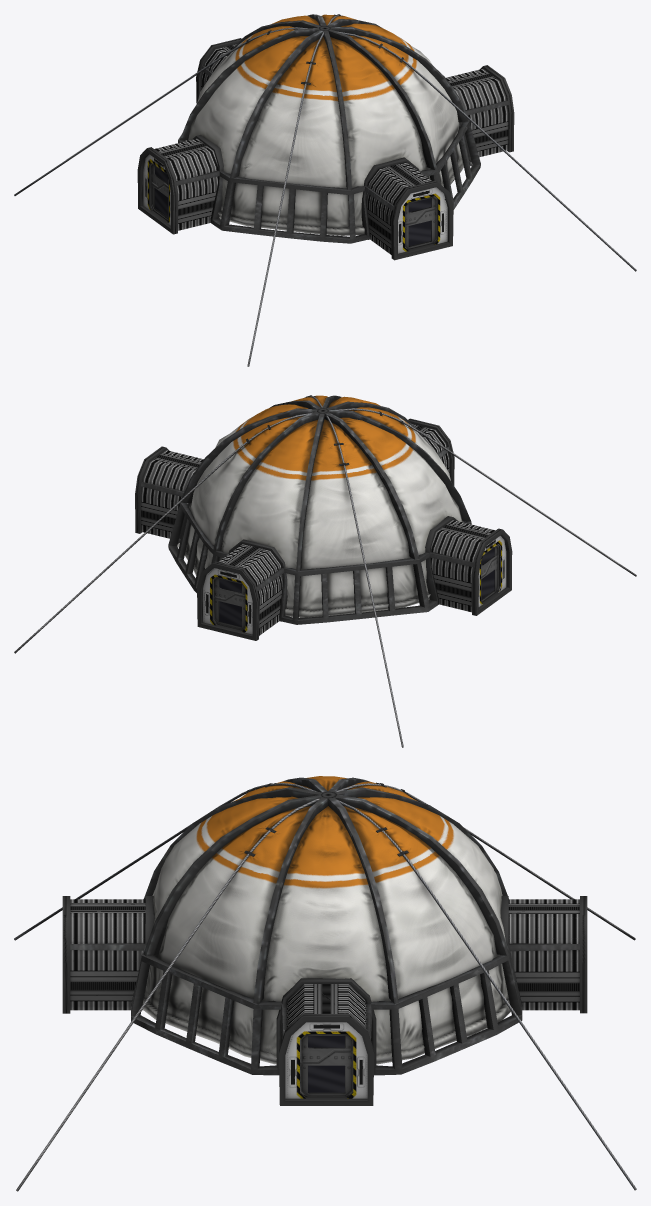
File: mars_tent.dae
3 views of the same model, one above another, from view 1: azimuth 30°, elevation 25°; view 2: azimuth 150°, elevation 25°; view 3: azimuth 270°, elevation 25° (orthographic). The views are drawn at different scales.
Visible parts, largest first — view 1: base_tent; view 2: base_tent; view 3: base_tent.
Part boxes in pixels (box(x1,y1,x2,y2)): base_tent: box(14, 14, 636, 366); base_tent: box(14, 395, 636, 747); base_tent: box(14, 776, 636, 1191).
Size of the model in its own units: 27.62 by 28.77 by 13.83.
1 material, 1 textured.
